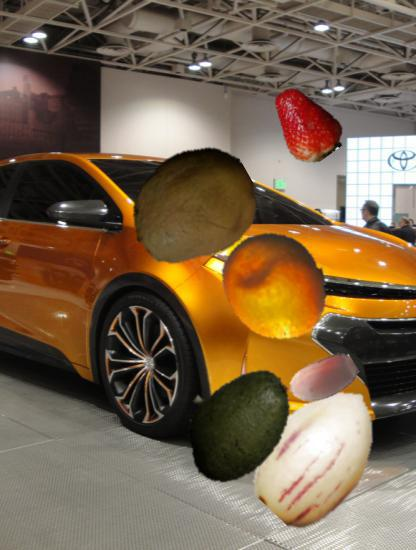Avocado: (173, 359, 299, 485)
Hazelnut: (287, 344, 358, 415)
Kumquats: (219, 231, 331, 343)
Papaya: (128, 142, 258, 272)
Pepino: (246, 382, 392, 528)
Strawberry: (265, 83, 346, 164)
